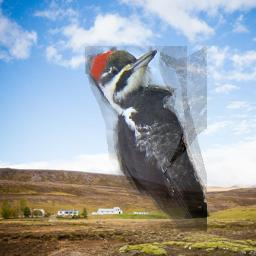Woodpecker: (85, 46, 207, 231)
